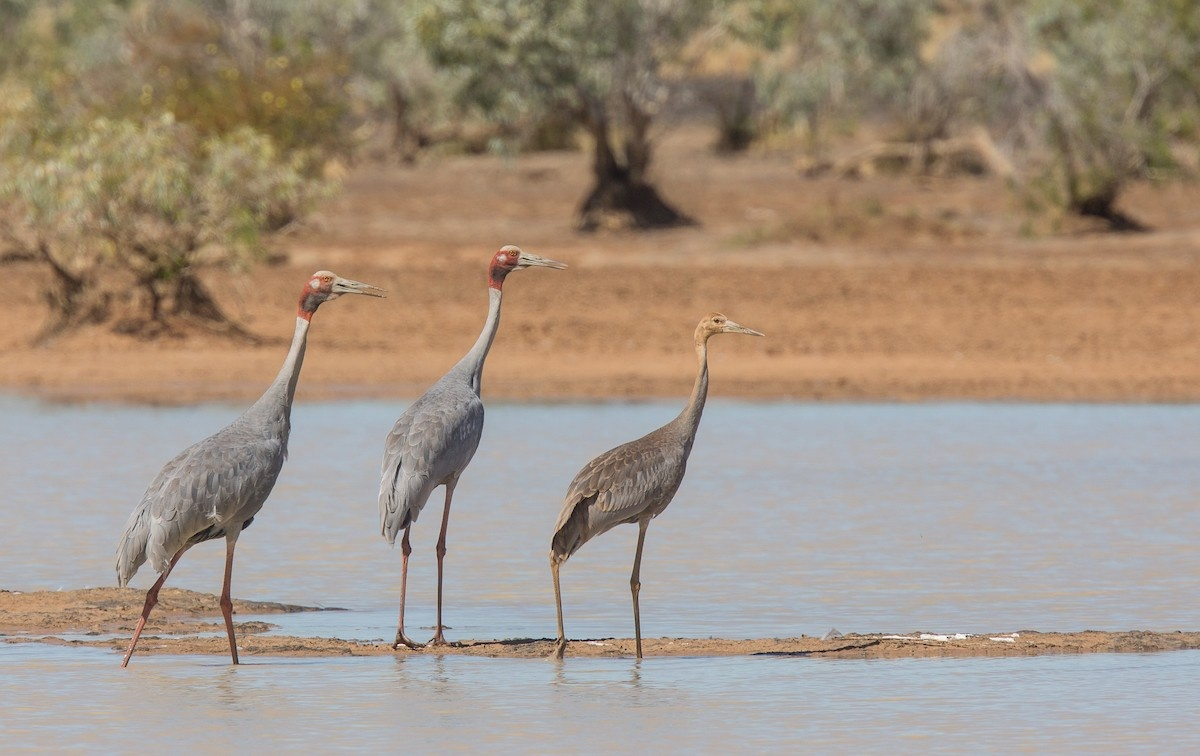crane: (110, 262, 390, 677), (544, 307, 773, 654), (371, 243, 570, 634)
